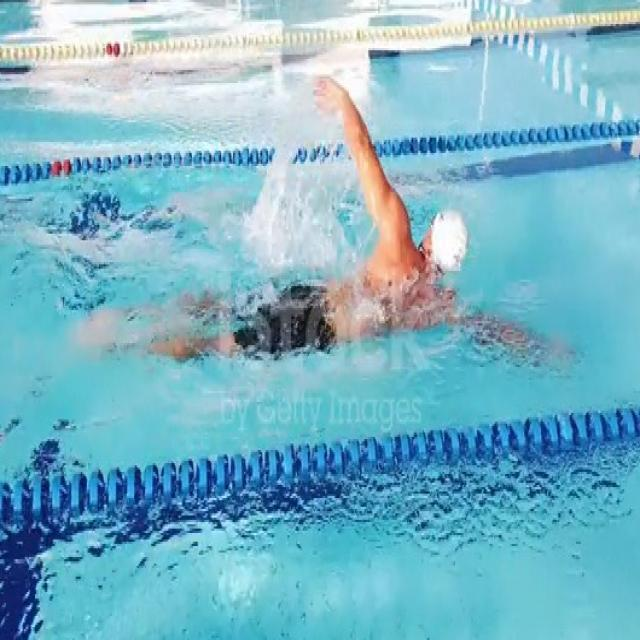Swimming: (119, 73, 477, 366)
